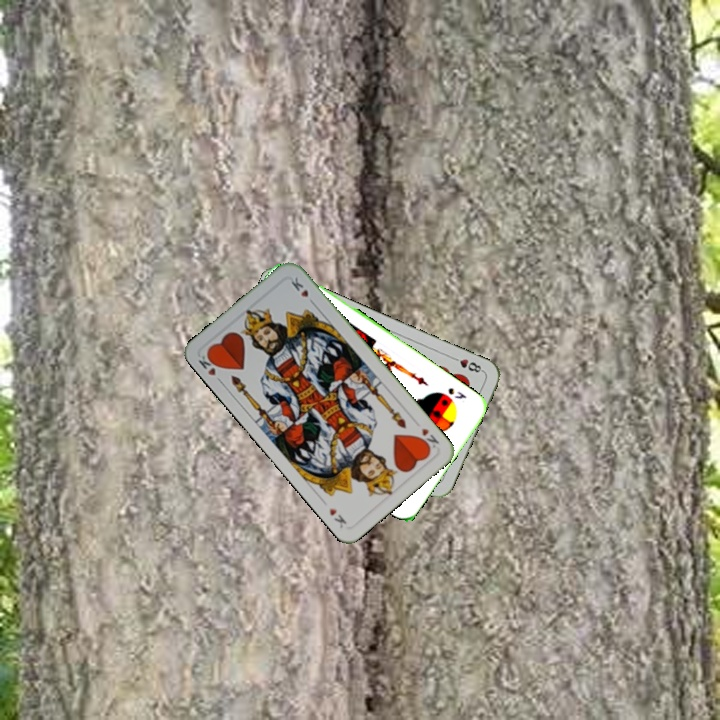H8: (447, 353, 486, 375)
HK: (194, 349, 223, 378), (415, 424, 442, 453)
SK: (444, 383, 469, 402)
